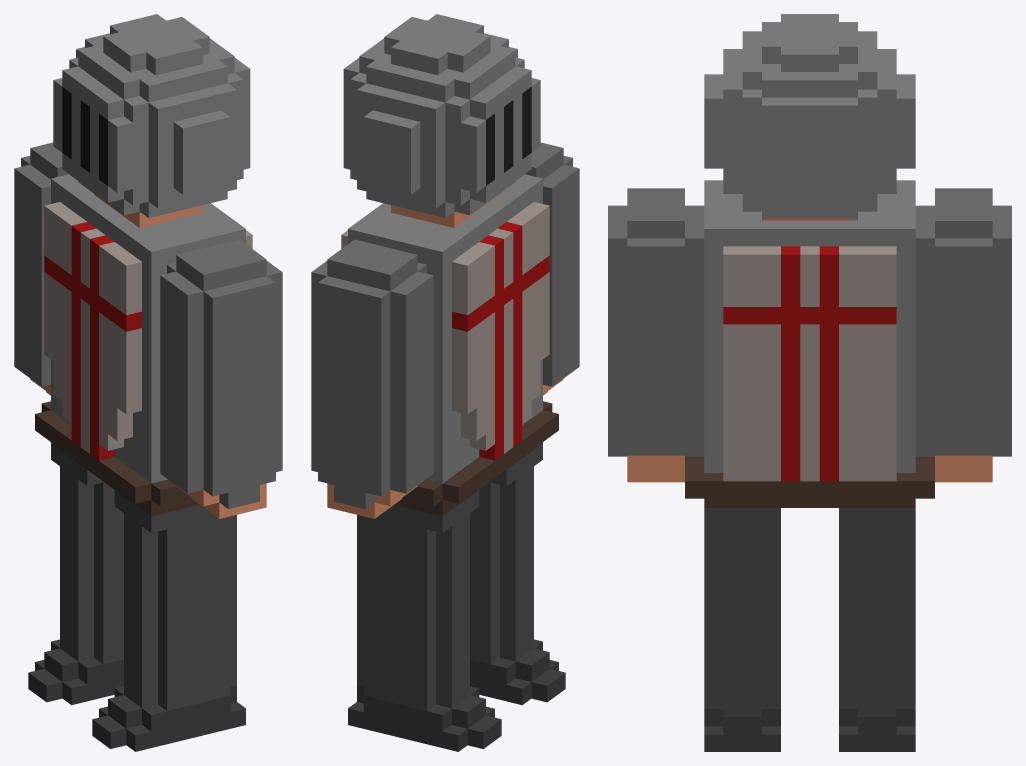
Rendered from Knight1.obj.
3 views of the same model, side by side, from view 1: azimuth 30°, elevation 25°; view 2: azimuth 150°, elevation 25°; view 3: azimuth 270°, elevation 25° (orthographic). The views are drawn at different scales.
Size of the model in its own units: 10 by 40 by 21.
Materials: 1 (1 with a texture image).
